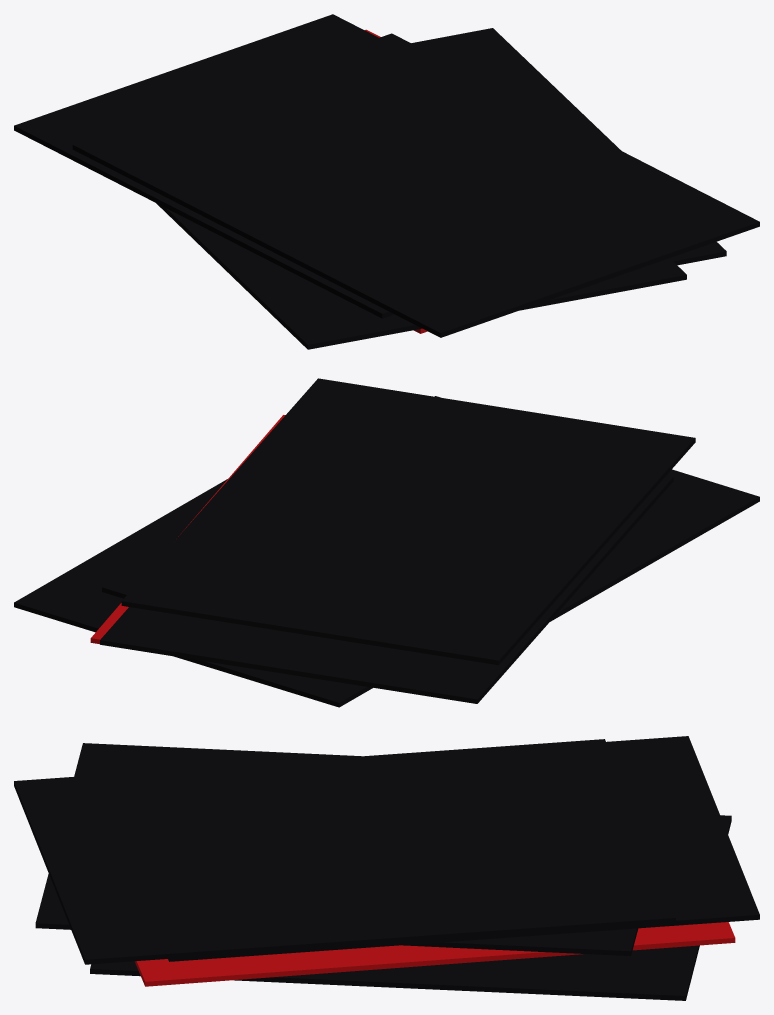
File: Item_OR_Cards_02.glb
3 renders of one model, top to bottom at view 1: azimuth 30°, elevation 25°; view 2: azimuth 150°, elevation 25°; view 3: azimuth 270°, elevation 25°, orthographic. The views are drawn at different scales.
Parts seen in each view (by area): view 1: Item_OR_Cards_02; view 2: Item_OR_Cards_02; view 3: Item_OR_Cards_02.
Boxes of the visible parts, x1=… form: Item_OR_Cards_02: x1=14, y1=14, x2=759, y2=349; Item_OR_Cards_02: x1=14, y1=378, x2=759, y2=707; Item_OR_Cards_02: x1=14, y1=736, x2=759, y2=1000.
Bounding box in the file's own units: 0.0839 × 0.0048 × 0.1096.
